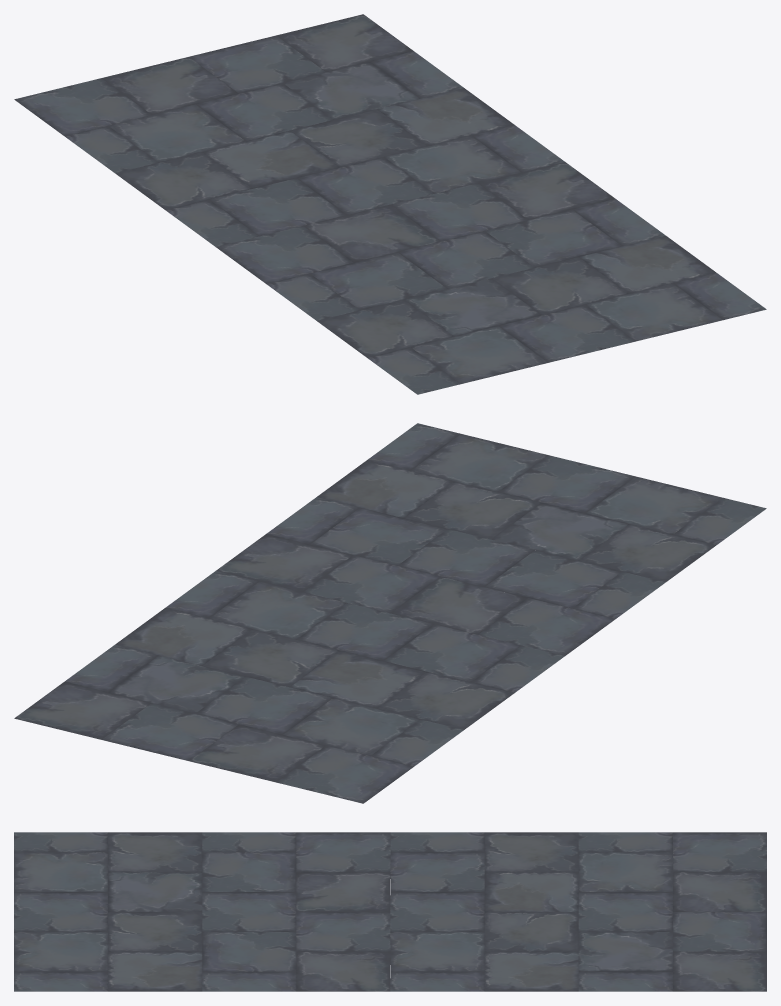
Rendered from Castle Ground X Dark 4x8.fbx.
The picture shows the model from 3 angles, top to bottom: view 1: azimuth 30°, elevation 25°; view 2: azimuth 150°, elevation 25°; view 3: azimuth 270°, elevation 25°; orthographic projection. The views are drawn at different scales.
Visible parts, largest first — view 1: Castle Ground X Dark 4x8; view 2: Castle Ground X Dark 4x8; view 3: Castle Ground X Dark 4x8.
Boxes of the visible parts, x1,y1,x2,y2 form: Castle Ground X Dark 4x8: (14, 14, 766, 394); Castle Ground X Dark 4x8: (14, 423, 766, 803); Castle Ground X Dark 4x8: (14, 832, 766, 991).
Size of the model in its own units: 3 by 1.04e-06 by 6.
